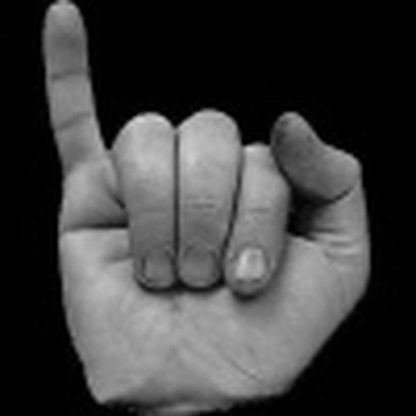i: (36, 2, 382, 398)
